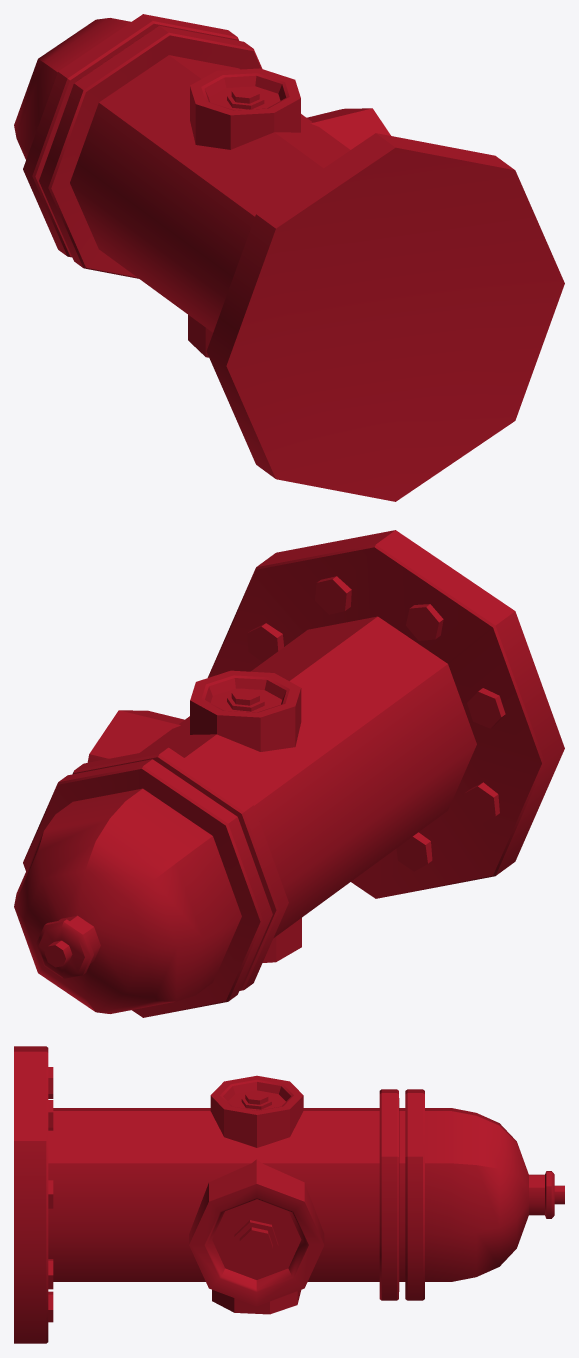
Rendered from water.fbx.
3 views of the same model, one above another, from view 1: azimuth 30°, elevation 25°; view 2: azimuth 150°, elevation 25°; view 3: azimuth 270°, elevation 25° (orthographic). The views are drawn at different scales.
Visible parts, largest first — view 1: BOCA DE INCENCIOS; view 2: BOCA DE INCENCIOS; view 3: BOCA DE INCENCIOS.
Boxes of the visible parts, left/top/right/bottom form: BOCA DE INCENCIOS: left=14, top=14, right=564, bottom=501; BOCA DE INCENCIOS: left=14, top=530, right=564, bottom=1017; BOCA DE INCENCIOS: left=14, top=1046, right=564, bottom=1343.
Bounding box in the file's own units: 0.698 × 0.698 × 1.22.
